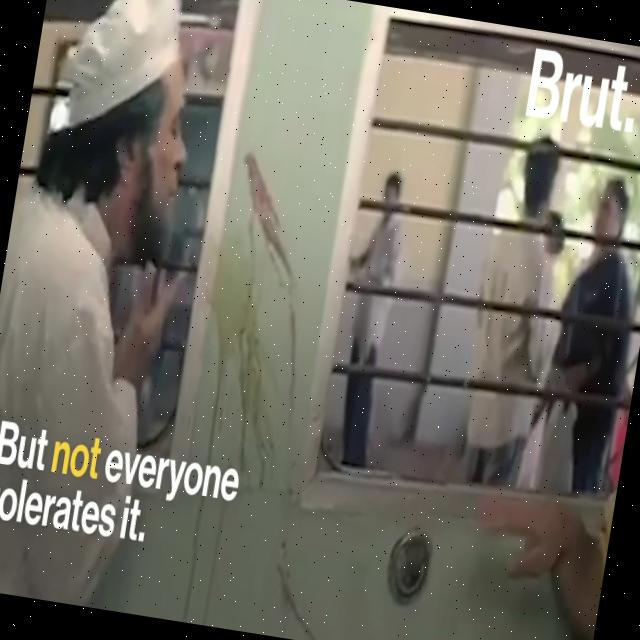spit: (43, 0, 281, 362)
